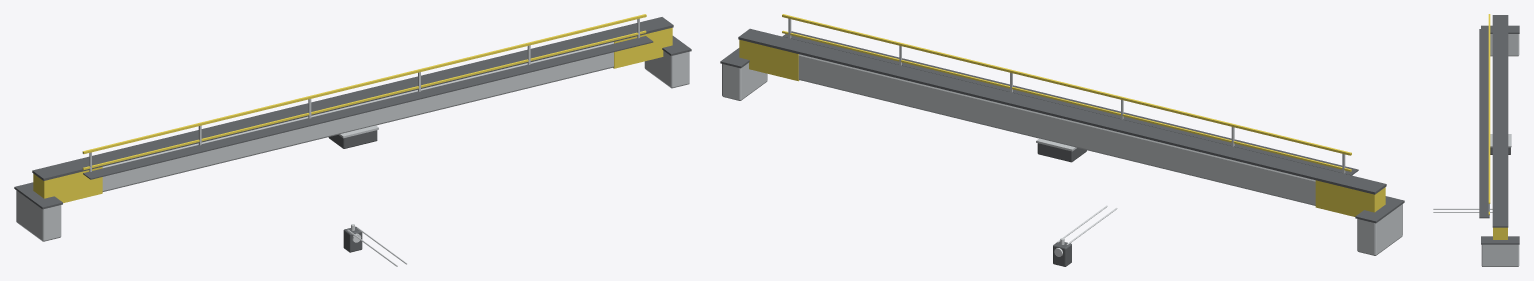
File: overhead-gantry-crane-bridge-with-trolley.glb
3 renders of one model, left to right at view 1: azimuth 30°, elevation 25°; view 2: azimuth 150°, elevation 25°; view 3: azimuth 270°, elevation 25°, orthographic. The views are drawn at different scales.
Visible parts, largest first — view 1: machine-shop-and-factory-hall-gantry-crane-bridge, trolley-travel/charcoal; view 2: machine-shop-and-factory-hall-gantry-crane-bridge, trolley-travel/charcoal; view 3: machine-shop-and-factory-hall-gantry-crane-bridge, trolley-travel/steel, trolley-travel/cast.
Boxes of the visible parts, x1,y1,x2,y2 form: machine-shop-and-factory-hall-gantry-crane-bridge: (14, 14, 691, 241); trolley-travel/charcoal: (328, 130, 377, 252); machine-shop-and-factory-hall-gantry-crane-bridge: (720, 14, 1404, 255); trolley-travel/charcoal: (1037, 143, 1086, 266); machine-shop-and-factory-hall-gantry-crane-bridge: (1479, 14, 1519, 266); trolley-travel/steel: (1433, 208, 1492, 212); trolley-travel/cast: (1490, 134, 1511, 147).
Size of the model in its own units: 17.76 by 4.48 by 2.99.
